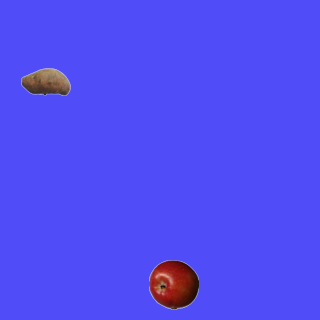Apple Braeburn: (148, 259, 198, 309)
Potato Sweet: (20, 56, 70, 106)
